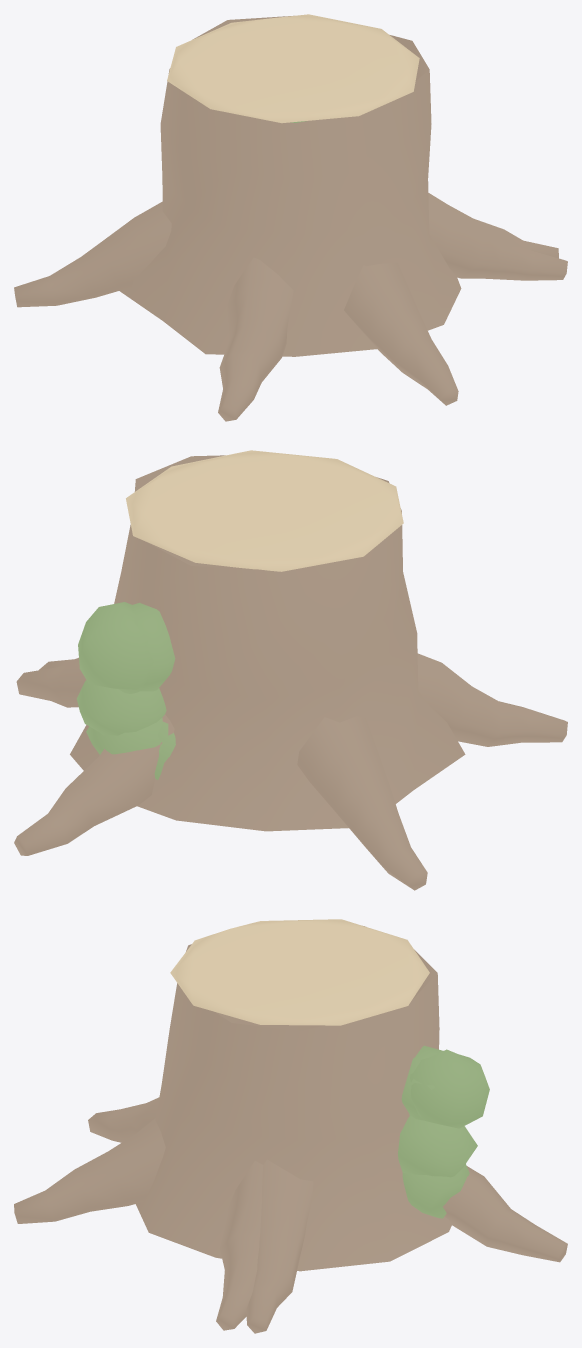
File: Blender_Stump_1.glb
The picture shows the model from 3 angles, top to bottom: view 1: azimuth 30°, elevation 25°; view 2: azimuth 150°, elevation 25°; view 3: azimuth 270°, elevation 25°; orthographic projection. The views are drawn at different scales.
Parts seen in each view (by area): view 1: Blender_Stump_1; view 2: Blender_Stump_1; view 3: Blender_Stump_1.
Boxes of the visible parts, bbox=[...] form: Blender_Stump_1: bbox=[14, 14, 567, 421]; Blender_Stump_1: bbox=[14, 450, 567, 890]; Blender_Stump_1: bbox=[14, 919, 567, 1333].
Bounding box in the file's own units: 2.17 × 1.12 × 2.25.
